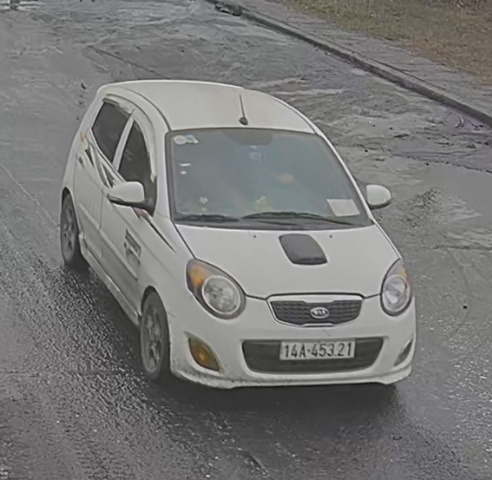vehicle plate: (274, 335, 363, 365)
